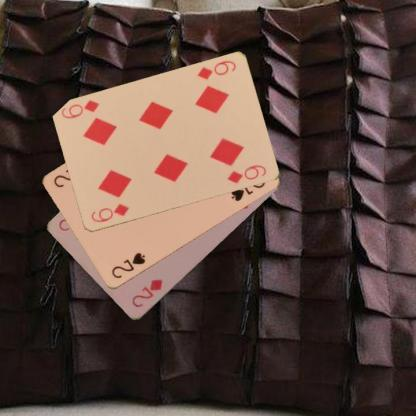2d: (129, 277, 164, 309)
2s: (108, 250, 146, 280)
6d: (194, 58, 237, 81), (88, 201, 130, 224)
